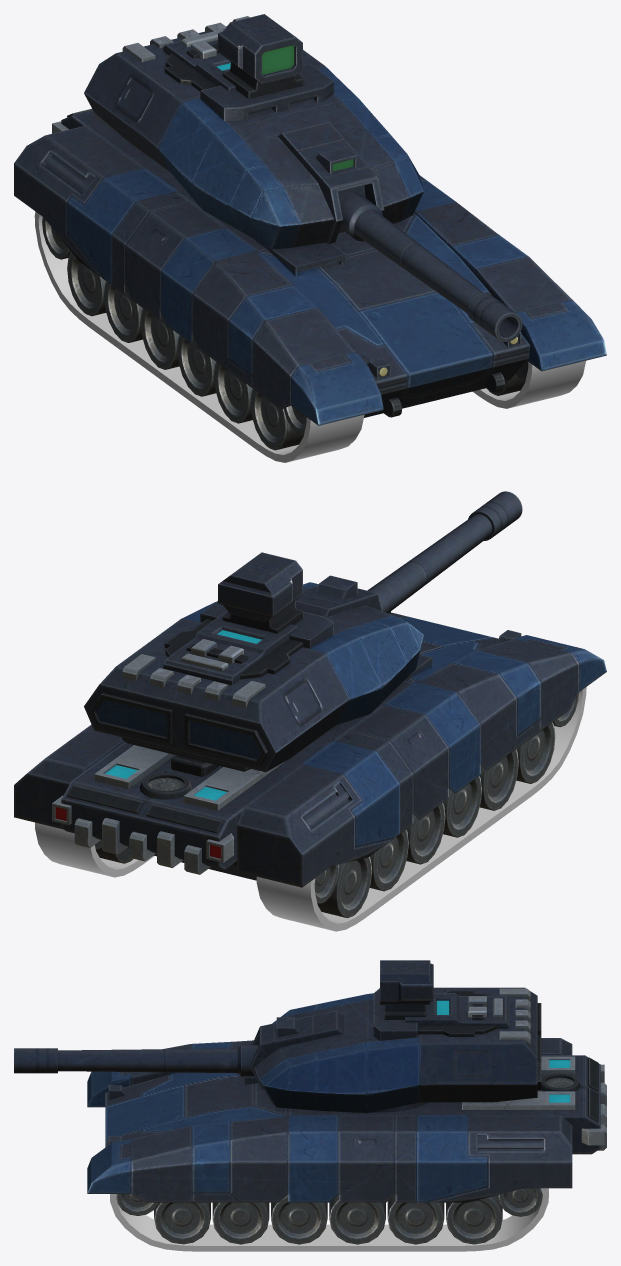
File: tank_1.dae
The picture shows the model from 3 angles, top to bottom: view 1: azimuth 30°, elevation 25°; view 2: azimuth 150°, elevation 25°; view 3: azimuth 270°, elevation 25°; orthographic projection. The views are drawn at different scales.
Visible parts, largest first — view 1: Body, Turret, TreadRight, TurretMGun, TreadLeft; view 2: Body, Turret, TreadRight, TurretMGun, TreadLeft; view 3: Body, Turret, TreadLeft, TurretMGun.
Part boxes in pixels (left/top/right/bottom): Body: left=14, top=108, right=606, bottom=450; Turret: left=84, top=14, right=423, bottom=249; TreadRight: left=34, top=211, right=364, bottom=462; TurretMGun: left=339, top=191, right=522, bottom=341; TreadLeft: left=472, top=361, right=585, bottom=408; Body: left=14, top=582, right=606, bottom=917; Turret: left=84, top=552, right=423, bottom=772; TreadRight: left=256, top=687, right=586, bottom=931; TurretMGun: left=367, top=491, right=522, bottom=613; TreadLeft: left=35, top=822, right=154, bottom=877; Body: left=87, top=1038, right=606, bottom=1244; Turret: left=250, top=960, right=541, bottom=1113; TreadLeft: left=110, top=1188, right=548, bottom=1251; TurretMGun: left=14, top=1045, right=258, bottom=1076.
Bounding box in the file's own units: 40.32 × 90.24 × 38.78.
